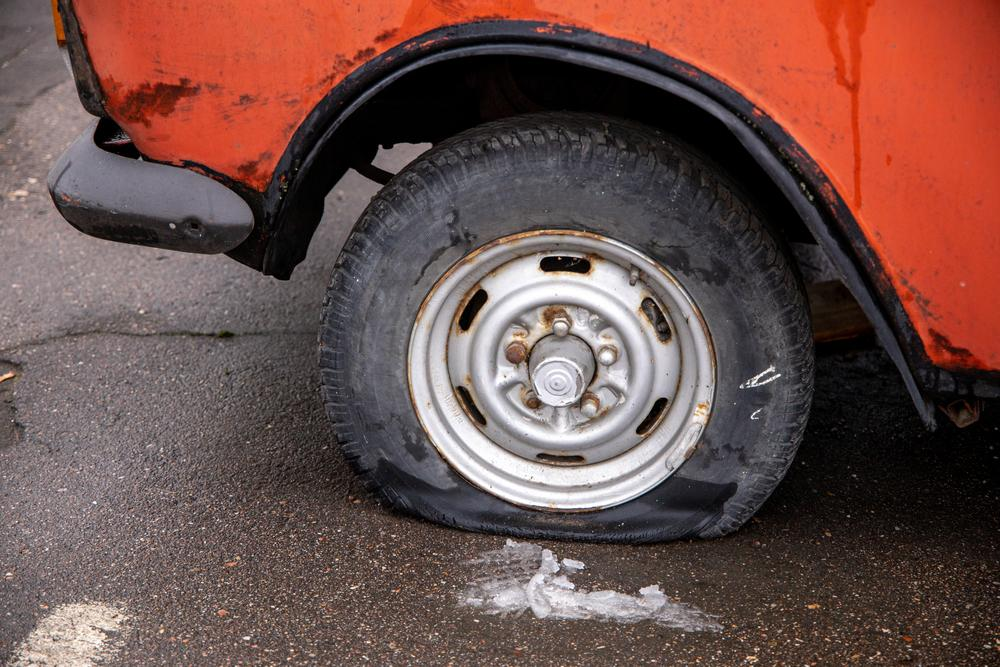tire flat: (314, 111, 813, 546)
